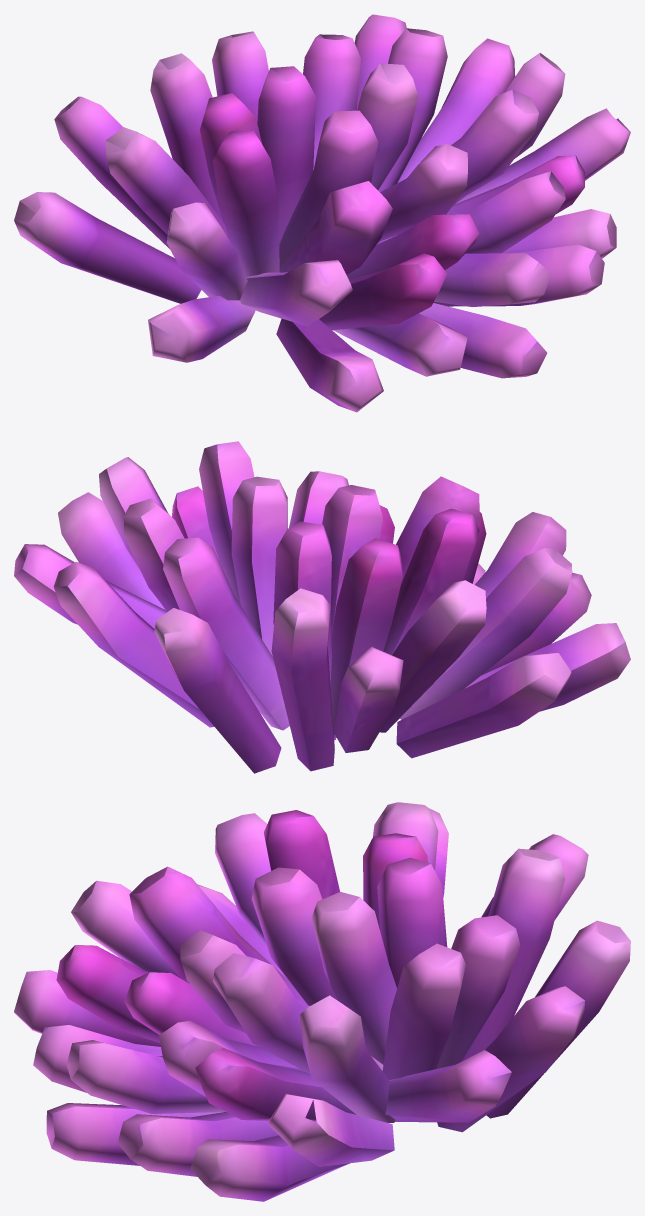
File: coral.glb
3 views of the same model, one above another, from view 1: azimuth 30°, elevation 25°; view 2: azimuth 150°, elevation 25°; view 3: azimuth 270°, elevation 25° (orthographic). The views are drawn at different scales.
Visible parts, largest first — view 1: node_id63; view 2: node_id63; view 3: node_id63.
Boxes of the visible parts, x1,y1,x2,y2 form: node_id63: [14, 14, 630, 412]; node_id63: [14, 441, 630, 773]; node_id63: [14, 802, 630, 1201].
Bounding box in the file's own units: 6.32 × 2.54 × 5.39.
Materials: 1 (1 with a texture image).
